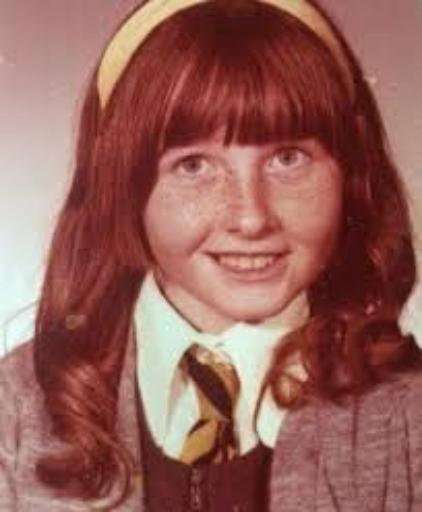left_eye: (268, 149, 317, 175)
left_lip_corner: (279, 244, 298, 262)
right_eye: (168, 153, 221, 181)
right_lip_corner: (197, 246, 217, 266)
